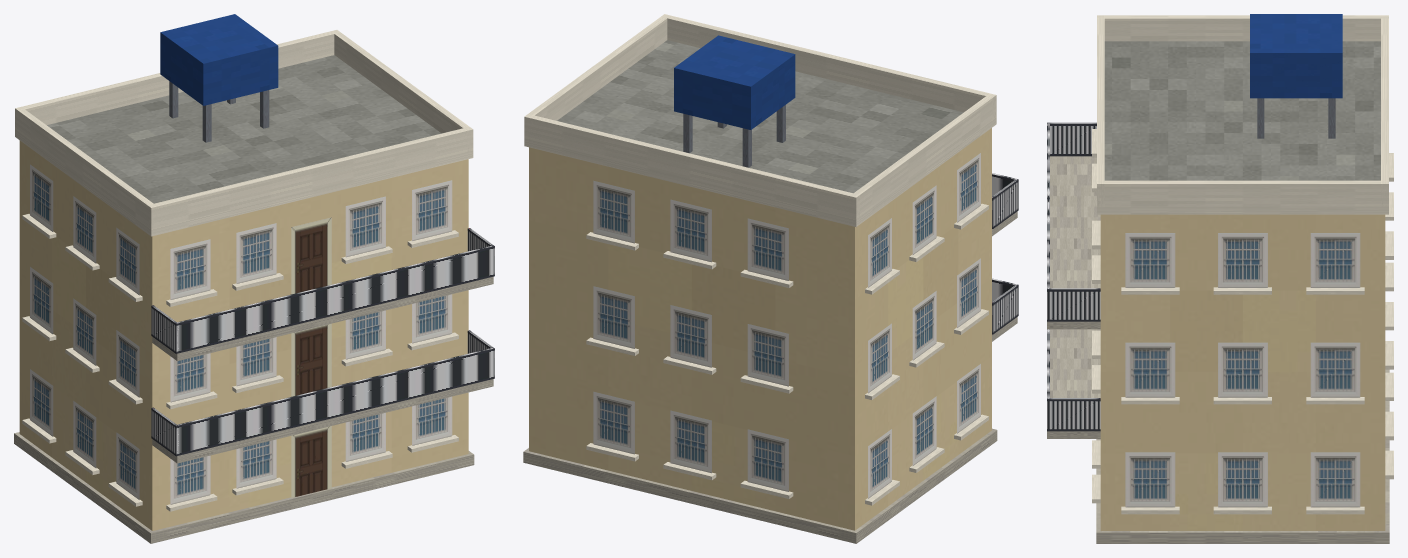
Rendered from flats-cream.glb.
3 renders of one model, left to right at view 1: azimuth 30°, elevation 25°; view 2: azimuth 150°, elevation 25°; view 3: azimuth 270°, elevation 25°, orthographic. The views are drawn at different scales.
Parts seen in each view (by area): view 1: flats-cream; view 2: flats-cream; view 3: flats-cream.
Boxes of the visible parts, x1=… form: flats-cream: x1=14, y1=14, x2=494, y2=543; flats-cream: x1=523, y1=14, x2=1018, y2=543; flats-cream: x1=1047, y1=14, x2=1393, y2=543.
Bounding box in the file's own units: 11.48 × 13.2 × 9.74.
Materials: 1 (1 with a texture image).
